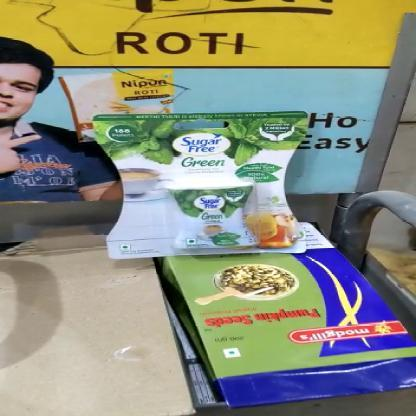SUGAR FREE GRN 300 PELLET: (100, 110, 308, 259)
